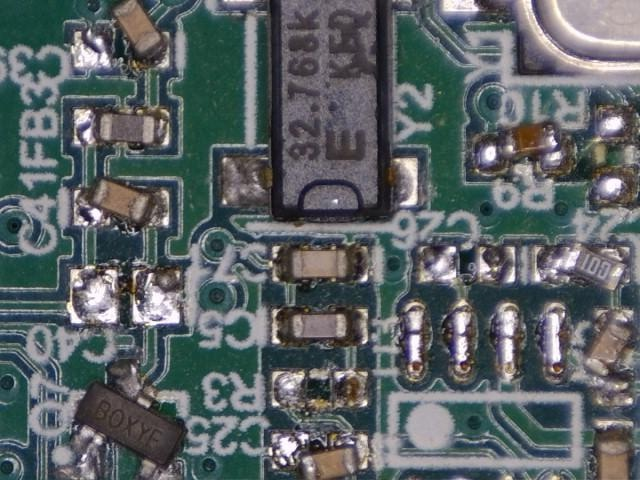pcb_defect: (56, 357, 189, 480), (70, 0, 172, 70), (578, 307, 639, 409), (472, 120, 576, 175), (73, 174, 171, 230), (534, 238, 633, 293), (267, 428, 369, 480), (71, 106, 171, 149)
